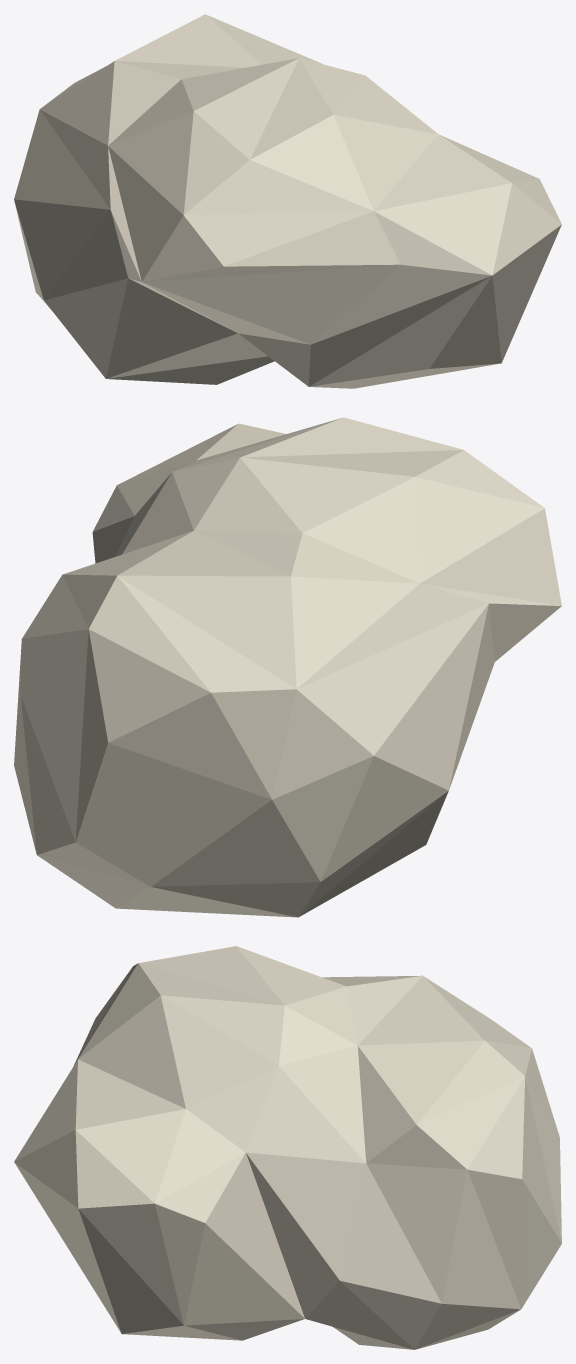
The model's file is Bone4.fbx.
3 views of the same model, one above another, from view 1: azimuth 30°, elevation 25°; view 2: azimuth 150°, elevation 25°; view 3: azimuth 270°, elevation 25° (orthographic). The views are drawn at different scales.
Visible parts, largest first — view 1: Bone4; view 2: Bone4; view 3: Bone4.
Boxes of the visible parts, left/top/right/bottom form: Bone4: left=14, top=14, right=561, bottom=388; Bone4: left=14, top=417, right=561, bottom=917; Bone4: left=14, top=946, right=561, bottom=1349.
Size of the model in its own units: 39.76 by 31.43 by 48.28.
